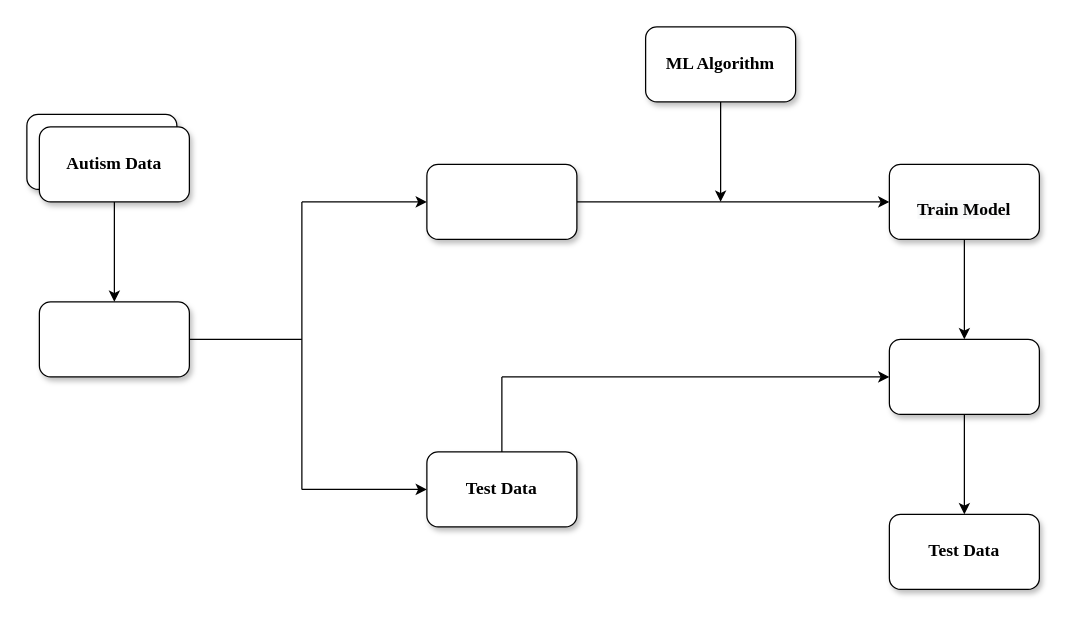
The diagram is 1069 pixels wide and 620 high, and some of its shapes have lost their labels. Here are the shapes that lost their labels. From the top down, the centre of each, then its label:
point 502,203: Training Data
point 115,341: Data Processing
point 965,378: Validate Model
